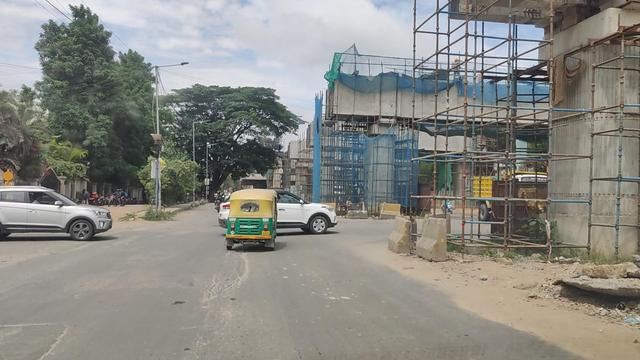LMV: (0, 186, 112, 240), (225, 198, 272, 250)
RoadDamages: (0, 297, 87, 360), (210, 254, 254, 289)
